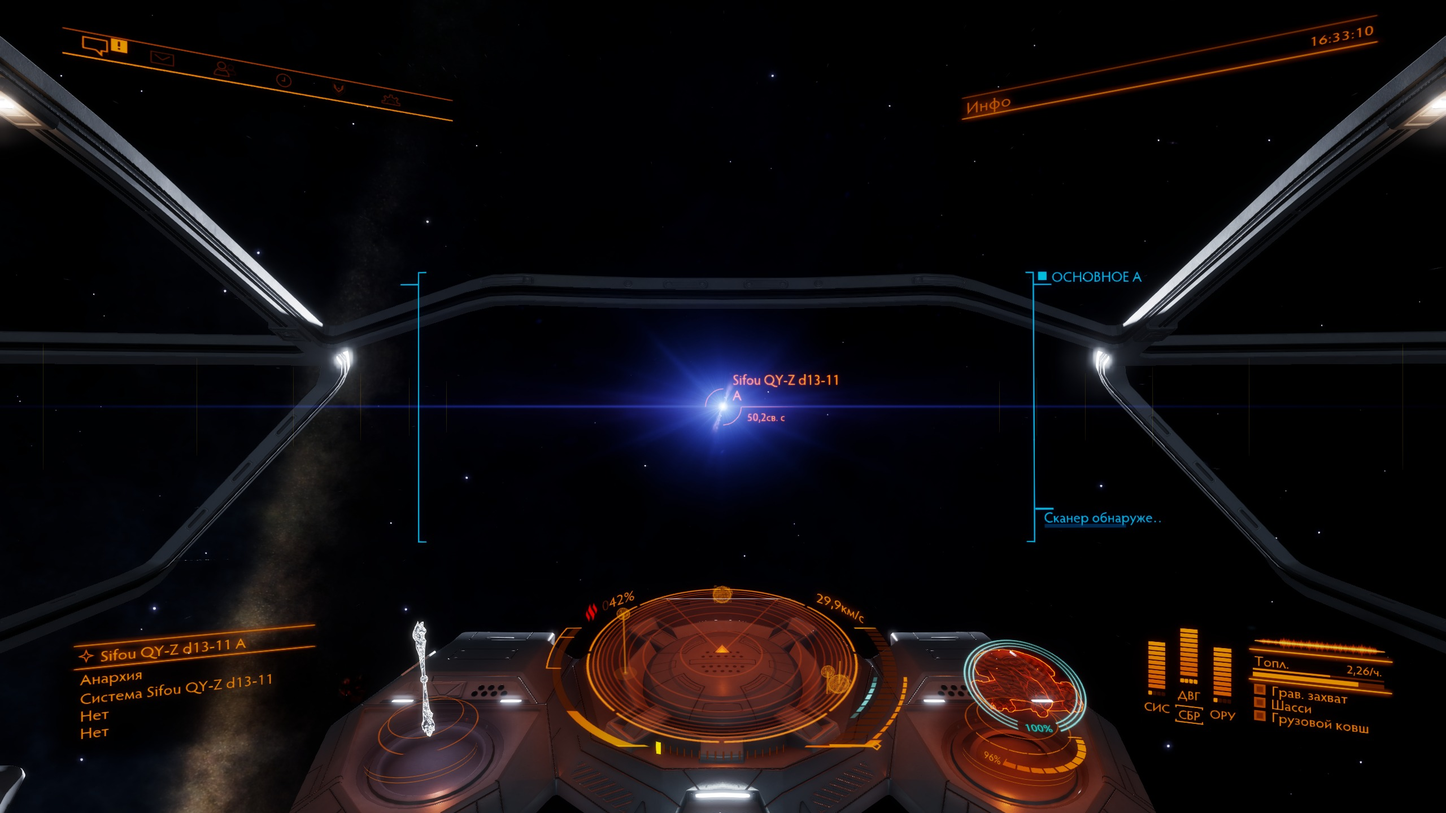core: (293, 583, 1144, 813)
jetcone: (665, 378, 792, 438), (186, 203, 228, 242)
